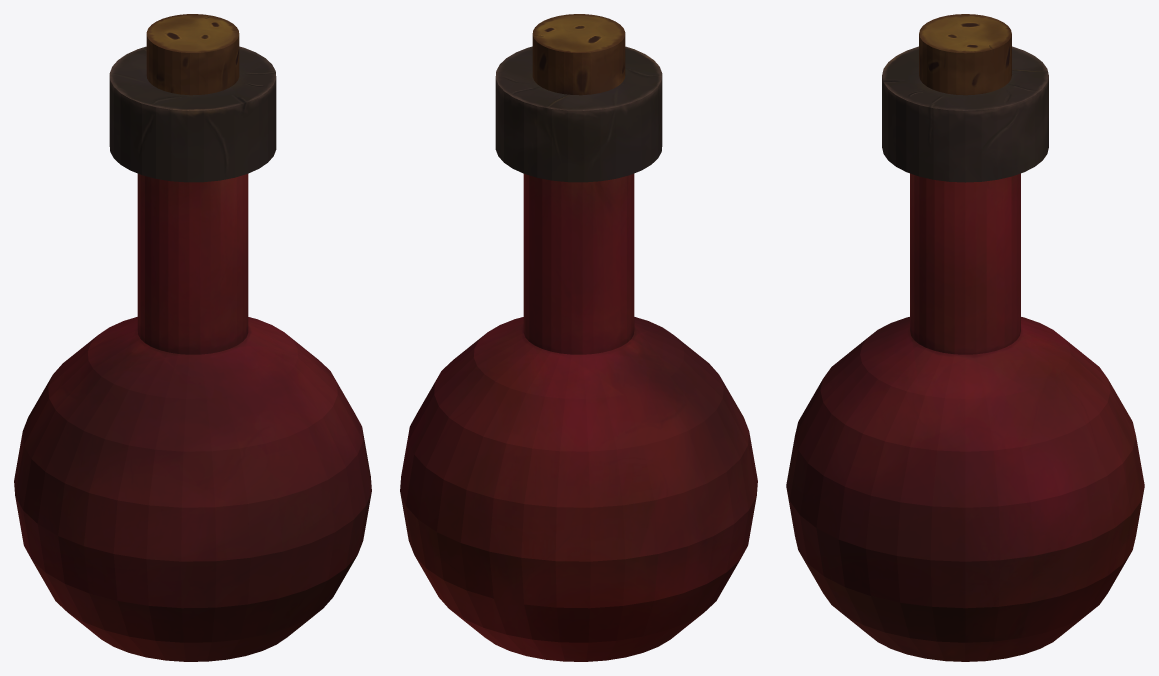
Rendered from HealthPotion.fbx.
3 renders of one model, left to right at view 1: azimuth 30°, elevation 25°; view 2: azimuth 150°, elevation 25°; view 3: azimuth 270°, elevation 25°, orthographic.
Parts seen in each view (by area): view 1: Sphere; view 2: Sphere; view 3: Sphere.
Part boxes in pixels (bbox=[...]): Sphere: bbox=[14, 14, 371, 661]; Sphere: bbox=[400, 14, 757, 661]; Sphere: bbox=[786, 14, 1144, 661].
Size of the model in its own units: 200 by 359 by 200.
1 material, 1 textured.
